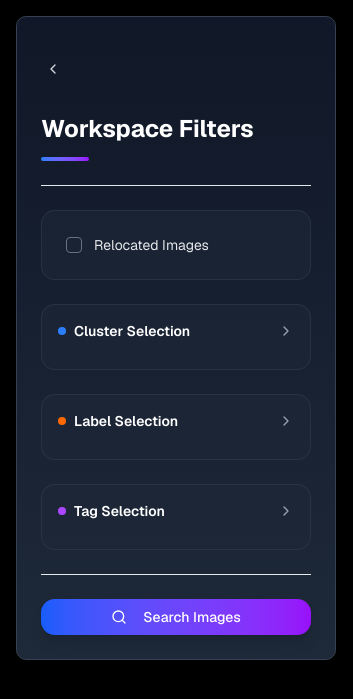
Scenario: FilterSidebar › cluster selection › renders cluster checkboxes with correct data
// Click to expand cluster section
Click the text "Cluster Selection": (132, 331) [74,321,190,341]
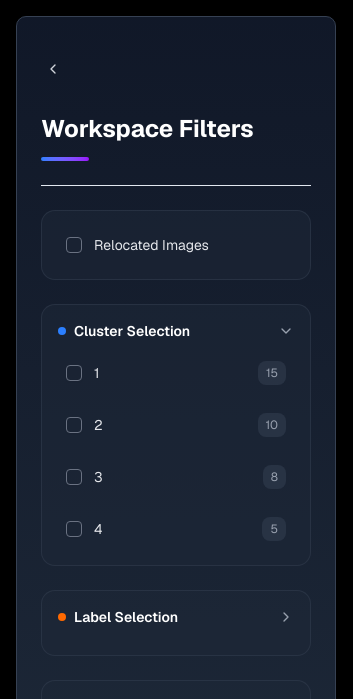
Expected: the text "1" is shown, [94,364,99,382]
Expected: the text "2" is shown, [94,416,103,434]
Expected: the text "15" is shown, [258,361,286,385]
